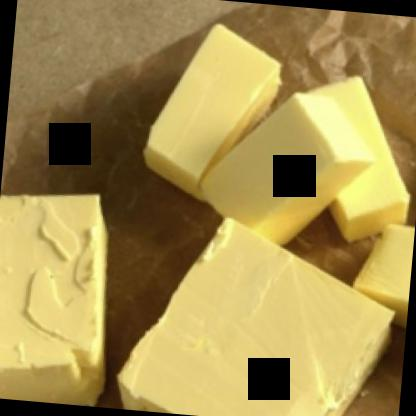butter: (119, 213, 401, 415), (205, 86, 371, 260), (136, 19, 282, 200), (0, 183, 117, 406), (287, 74, 415, 246), (350, 217, 414, 321)
